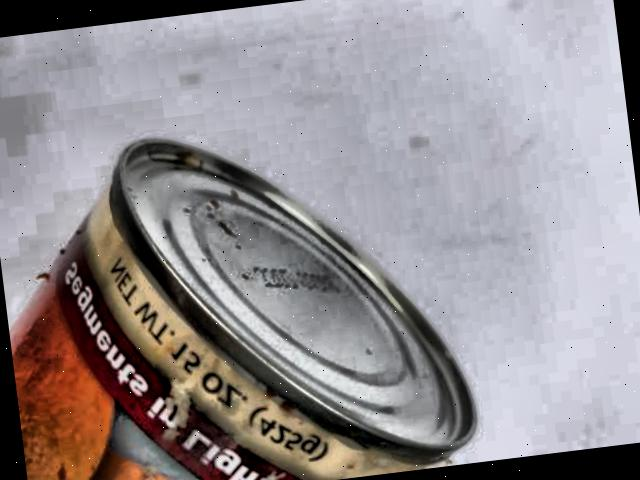Almennt: (0, 82, 515, 480)
